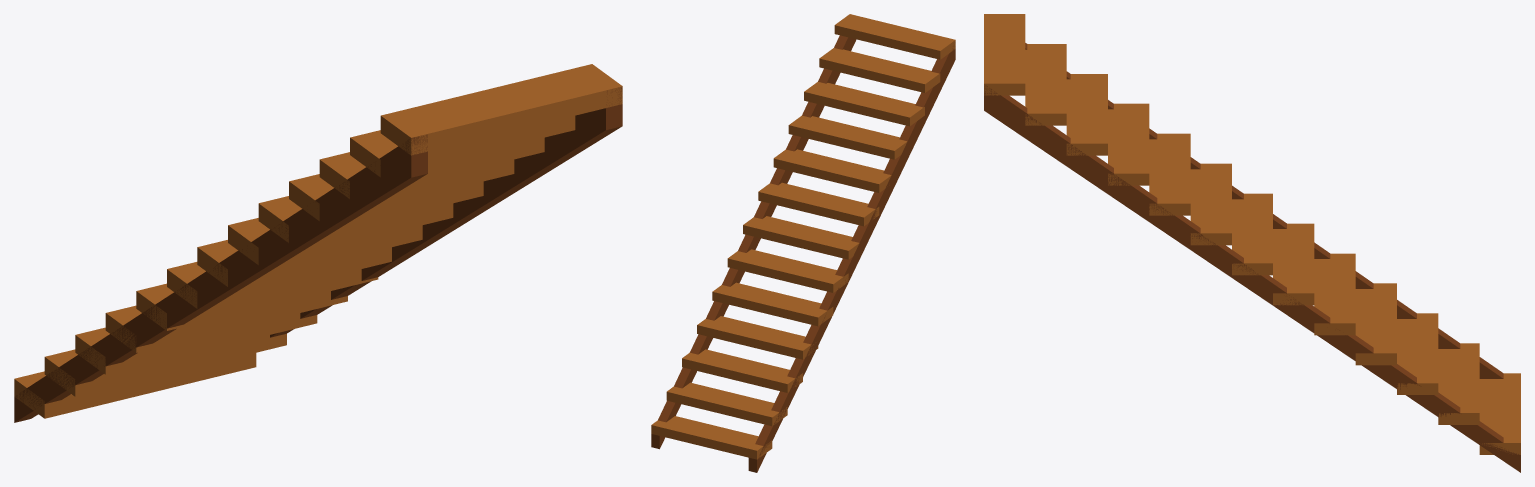
File: STAIRS_260.obj
3 views of the same model, side by side, from view 1: azimuth 30°, elevation 25°; view 2: azimuth 150°, elevation 25°; view 3: azimuth 270°, elevation 25° (orthographic). The views are drawn at different scales.
Bounding box in the file's own units: 1 × 2.6 × 3.25.
